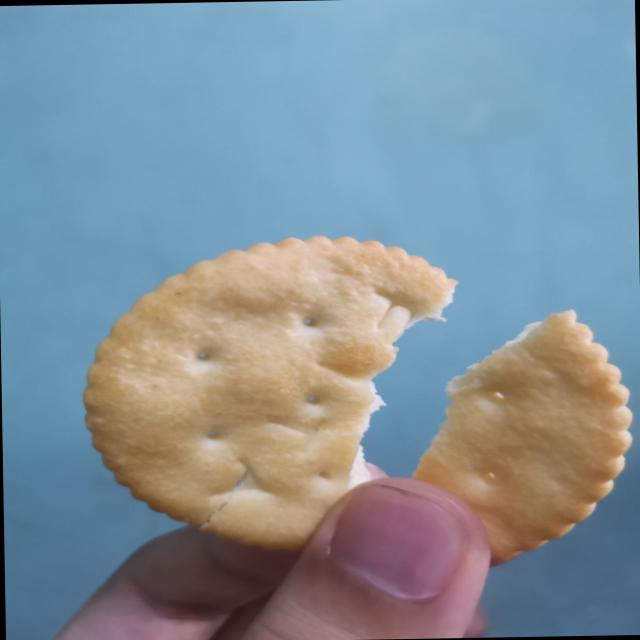broken biscuit: (77, 230, 462, 554), (424, 300, 636, 565)
